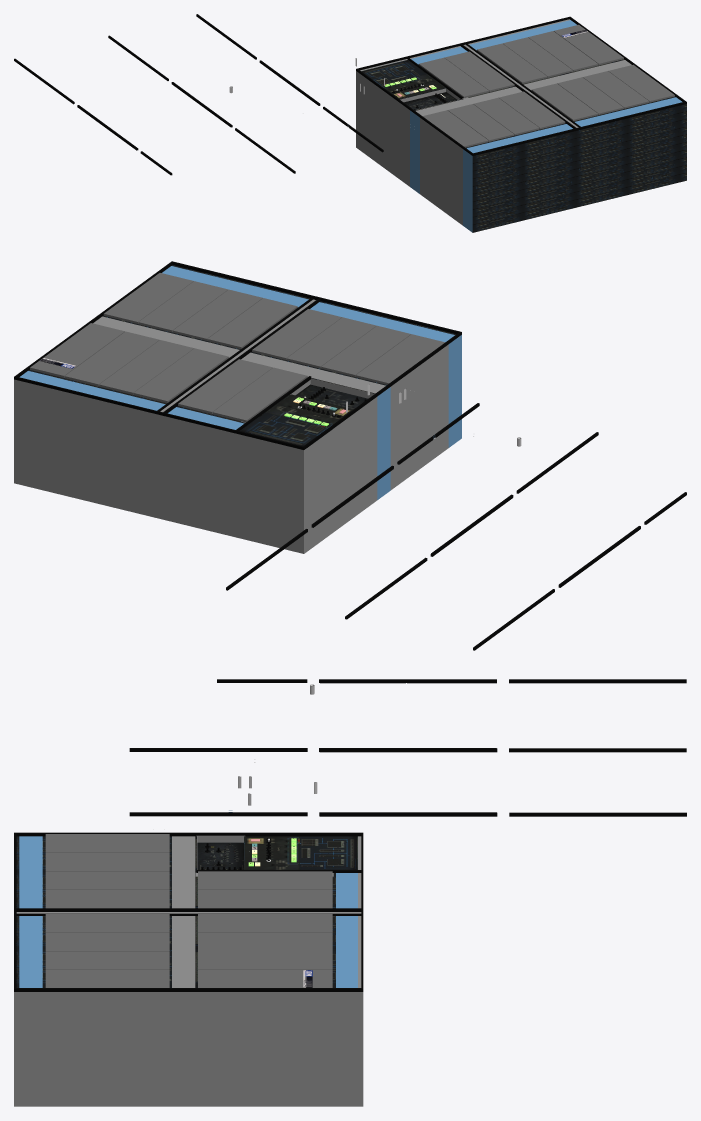
Rendered from ibm-1401-mainframe.glb.
The picture shows the model from 3 angles, top to bottom: view 1: azimuth 30°, elevation 25°; view 2: azimuth 150°, elevation 25°; view 3: azimuth 270°, elevation 25°; orthographic projection. The views are drawn at different scales.
Visible parts, largest first — view 1: BASE, Ferro_Emvolta, Cube_3_2, Cube_13, Cube_1_2, Cube_12, Cube_2_3, Cube_2_2, Cube_7_2, Cube_10, Cube_5_3, Cube_4_3 (+14 smaller); view 2: BASE, Ferro_Emvolta, Cube_3_2, Cube_13, Cube_1_2, Cube_12, Cube_2_3, Cube_2_2, Cube_7_2, Cube_4_3, Cube_10, Cube_9 (+13 smaller); view 3: BASE, Ferro_Emvolta, Cube_13, Cube_12, Cube_1_2, Cube_2_3, Cube_3_2, Cube_10, Cube_4_3, Cube_11, Cube_9, Cube_5_3 (+23 smaller).
Part boxes in pixels (x1,y1,x2,y2): BASE: [356, 59, 686, 232]; Ferro_Emvolta: [356, 16, 686, 155]; Cube_3_2: [477, 43, 547, 83]; Cube_13: [419, 57, 488, 98]; Cube_1_2: [528, 31, 598, 71]; Cube_12: [444, 51, 514, 91]; Cube_2_3: [503, 37, 572, 77]; Cube_2_2: [554, 24, 623, 65]; Cube_7_2: [531, 83, 598, 121]; Cube_10: [447, 104, 514, 141]; Cube_5_3: [583, 71, 649, 108]; Cube_4_3: [557, 77, 623, 114]; BASE: [14, 265, 461, 553]; Ferro_Emvolta: [14, 261, 461, 449]; Cube_3_2: [133, 348, 228, 402]; Cube_13: [212, 367, 307, 422]; Cube_1_2: [64, 331, 159, 386]; Cube_12: [178, 359, 272, 413]; Cube_2_3: [99, 340, 194, 394]; Cube_2_2: [30, 323, 124, 377]; Cube_7_2: [207, 298, 297, 348]; Cube_4_3: [173, 289, 262, 340]; Cube_10: [321, 325, 411, 376]; Cube_9: [286, 317, 376, 368]; BASE: [14, 836, 363, 1106]; Ferro_Emvolta: [14, 832, 363, 991]; Cube_13: [198, 871, 332, 889]; Cube_12: [198, 890, 332, 908]; Cube_1_2: [198, 951, 332, 969]; Cube_2_3: [198, 932, 332, 950]; Cube_3_2: [198, 914, 332, 932]; Cube_10: [45, 852, 169, 871]; Cube_4_3: [45, 932, 169, 951]; Cube_11: [45, 834, 169, 852]; Cube_9: [45, 871, 169, 889]; Cube_5_3: [45, 951, 169, 969].
Bounding box in the file's own units: 184 × 42.23 × 160.
Materials: 23 (7 with a texture image).
